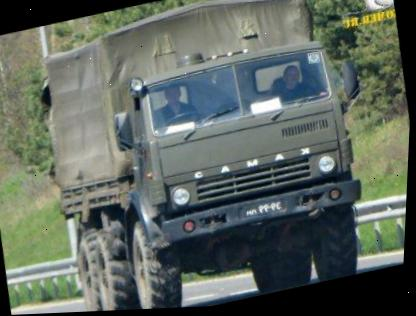truck: (20, 0, 372, 314)
